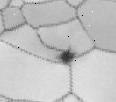good_void: (56, 47, 76, 65)
